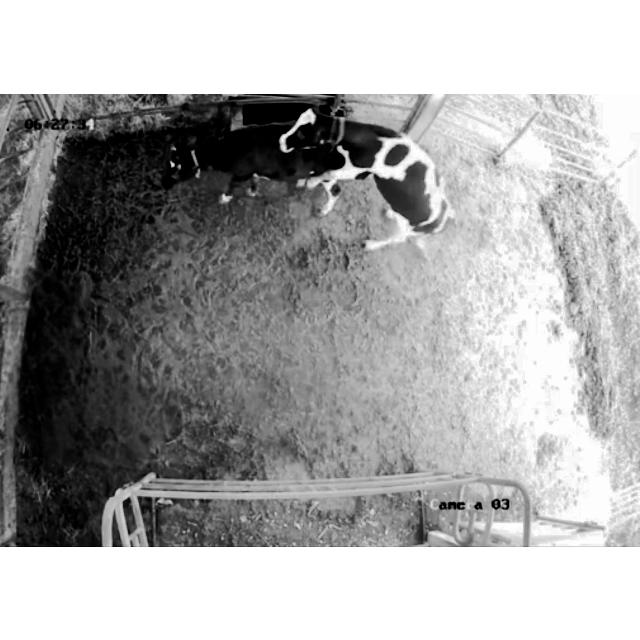ride: (278, 102, 466, 262)
